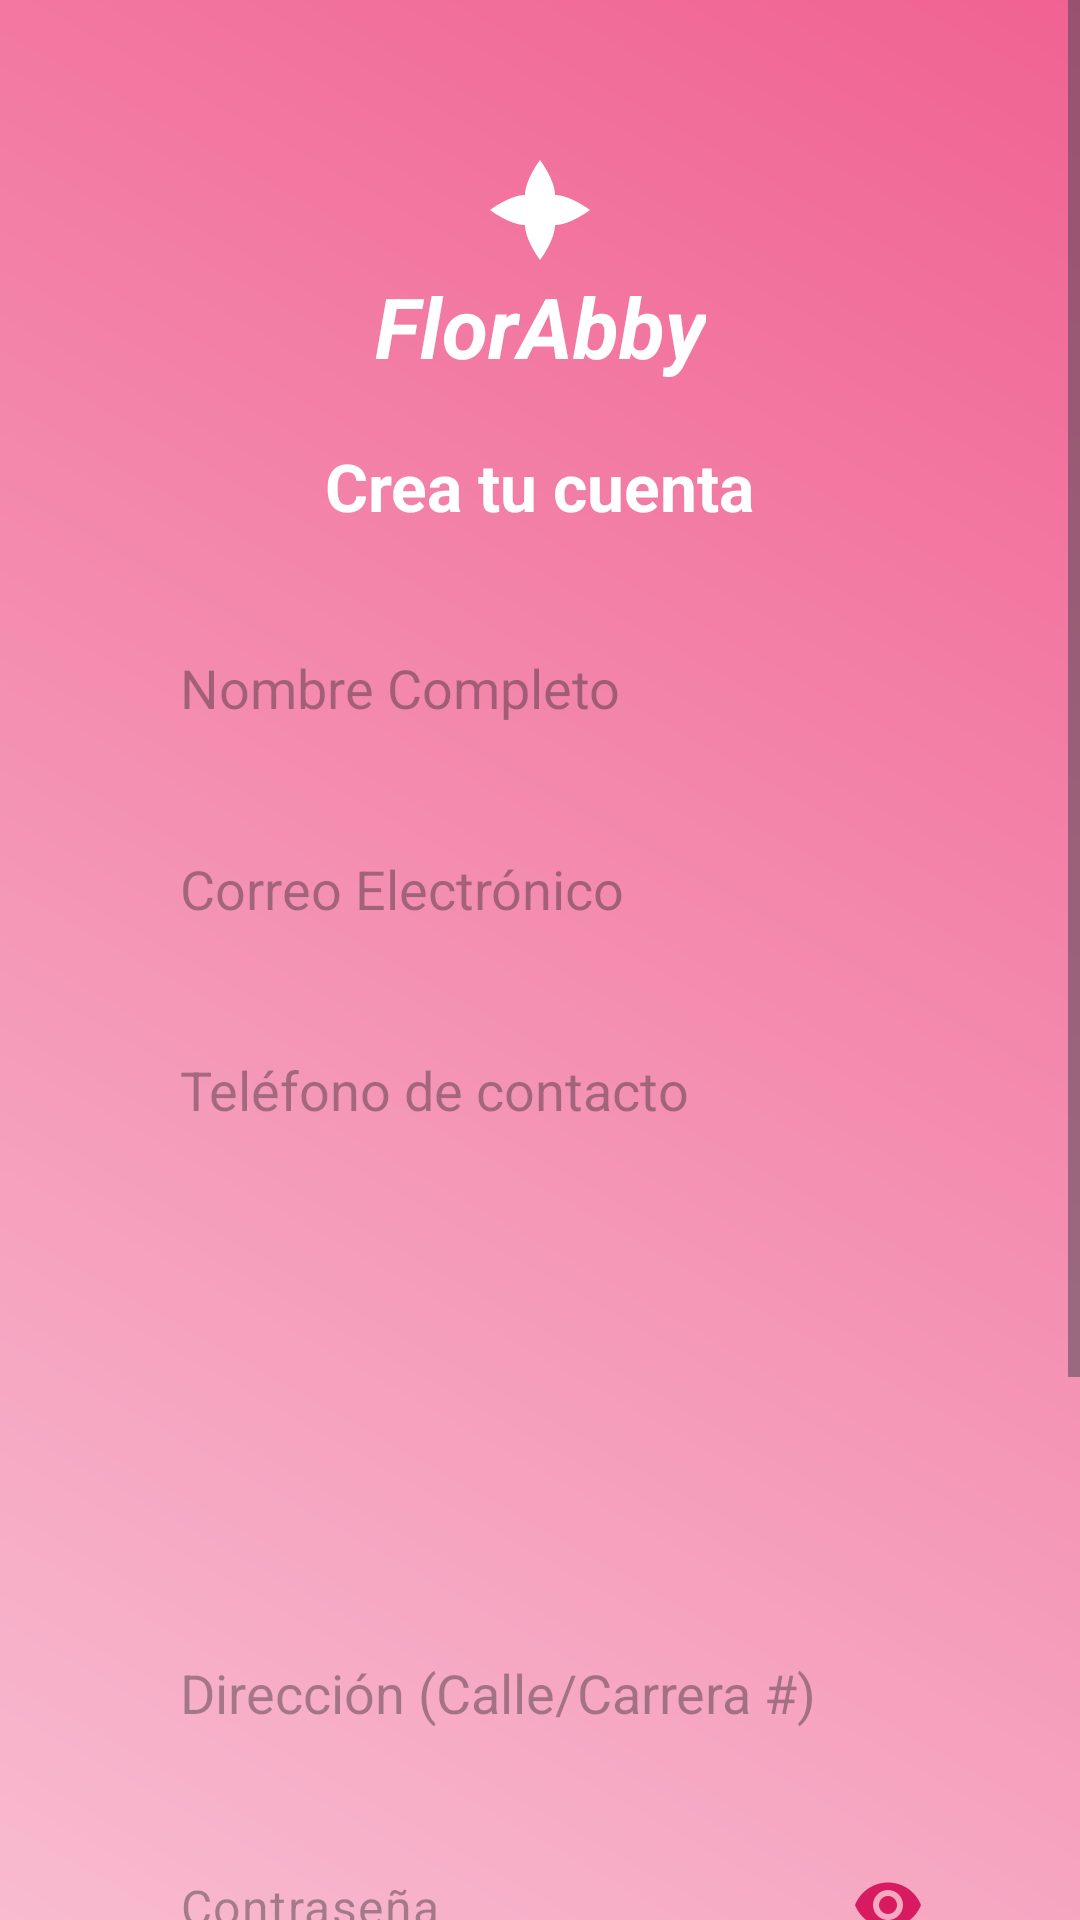

Where icons sit on this 1080w x 1920h app screen, as (x1, y1, x2, y2):
flower: (490, 160, 590, 260)
